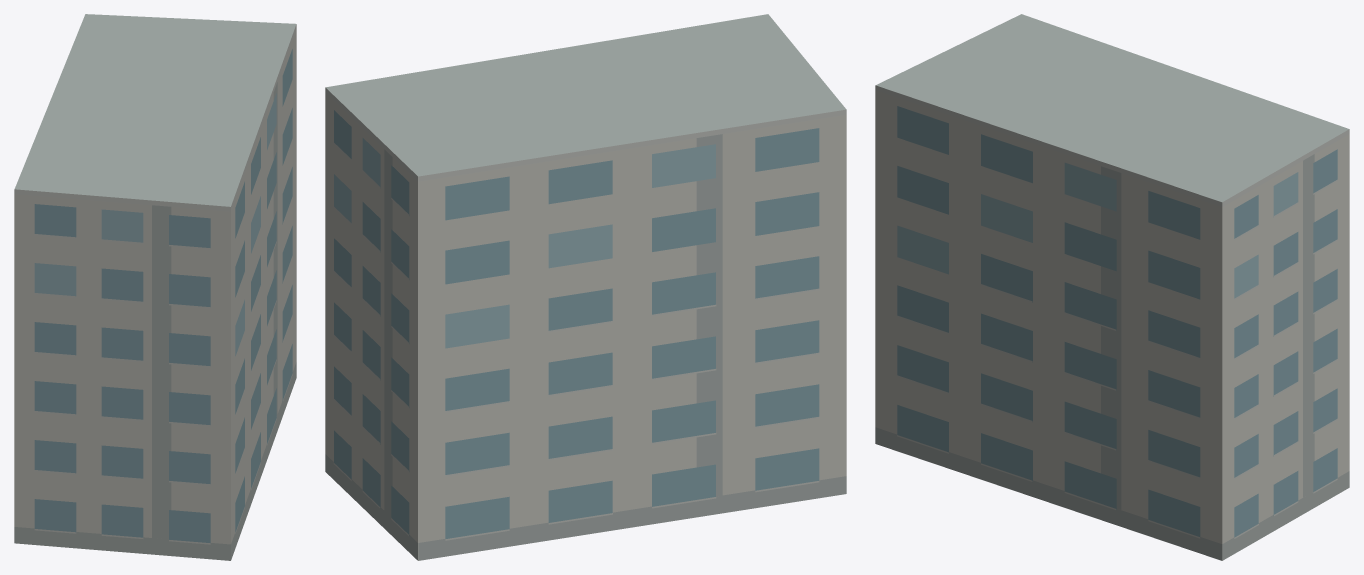
The model's file is survey-upis-32928536.glb.
3 views of the same model, side by side, from view 1: azimuth 30°, elevation 25°; view 2: azimuth 150°, elevation 25°; view 3: azimuth 270°, elevation 25° (orthographic). The views are drawn at different scales.
Visible parts, largest first — view 1: survey-upis-32928536.tmp; view 2: survey-upis-32928536.tmp; view 3: survey-upis-32928536.tmp.
Part boxes in pixels (x1,y1,x2,y2): survey-upis-32928536.tmp: (14,14,296,560); survey-upis-32928536.tmp: (325,14,846,560); survey-upis-32928536.tmp: (875,14,1349,560).
Size of the model in its own units: 20.62 by 18.3 by 21.93.
